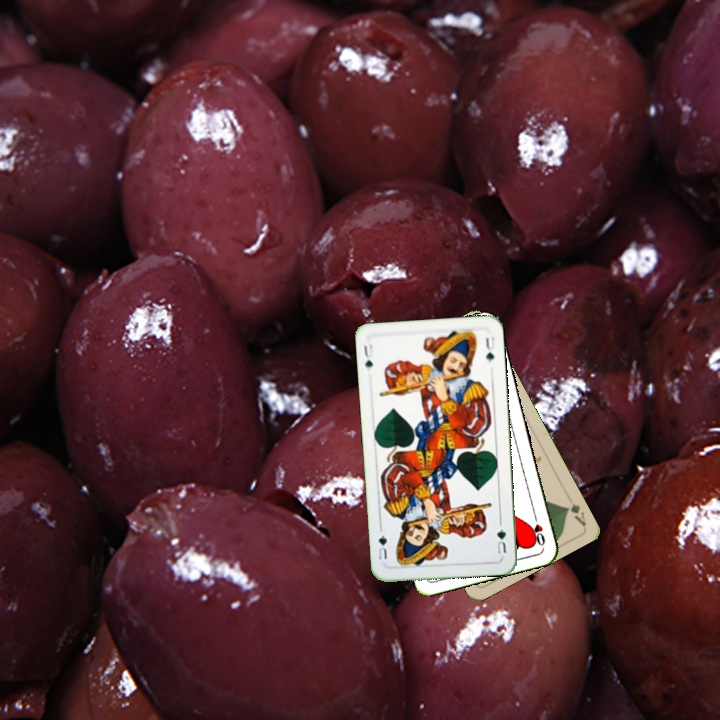GA: (561, 499, 588, 528)
GU: (492, 524, 509, 556), (360, 340, 376, 371)
HO: (528, 509, 548, 549)
